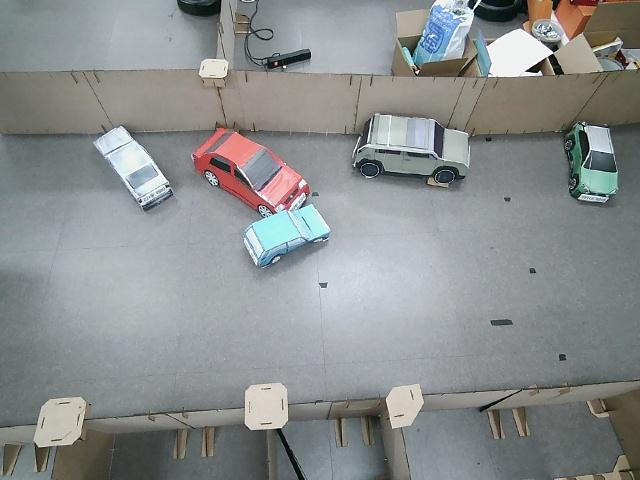car: (189, 126, 311, 220), (351, 113, 471, 185), (91, 124, 176, 212), (244, 202, 330, 266), (563, 121, 620, 204)
